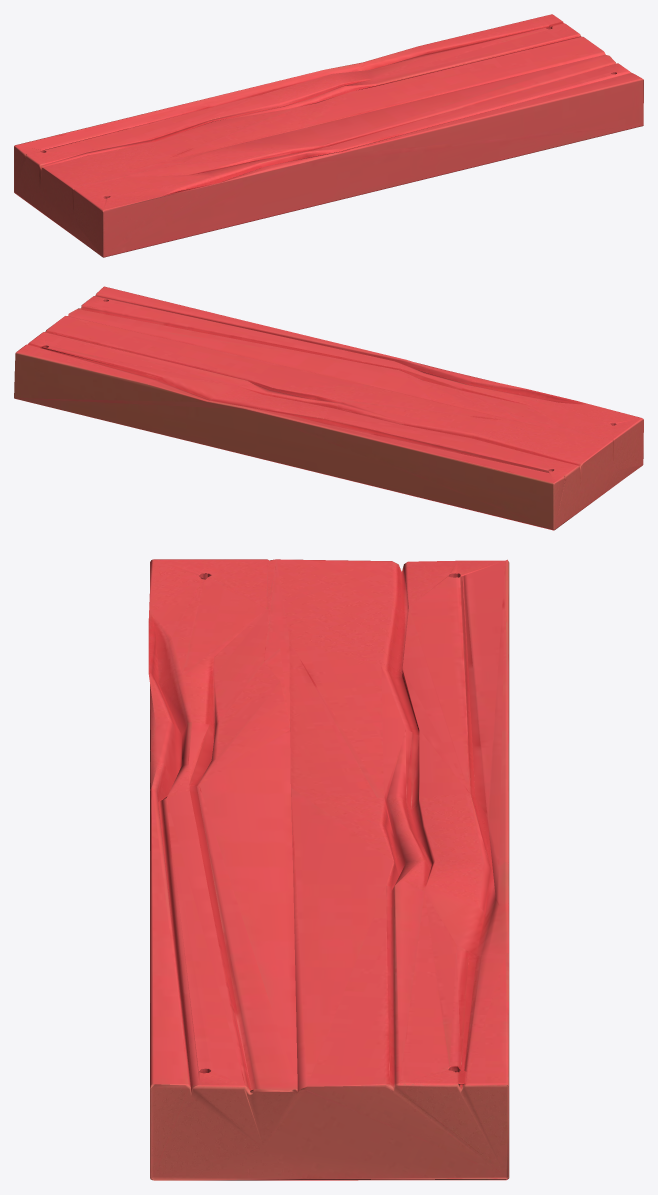
The model's file is coral-road.glb.
The picture shows the model from 3 angles, top to bottom: view 1: azimuth 30°, elevation 25°; view 2: azimuth 150°, elevation 25°; view 3: azimuth 270°, elevation 25°; orthographic projection. The views are drawn at different scales.
Bounding box in the file's own units: 0.9482 × 0.0839 × 0.2739.
Materials: 1 (1 with a texture image).
